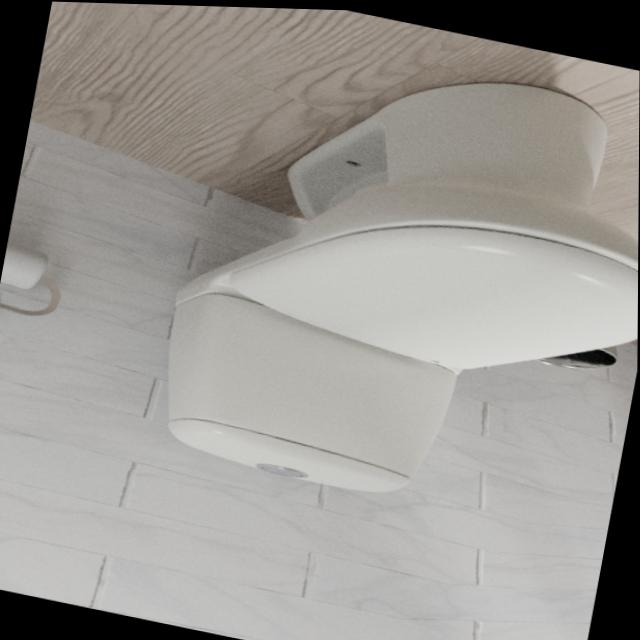toilet: (146, 19, 640, 541)
